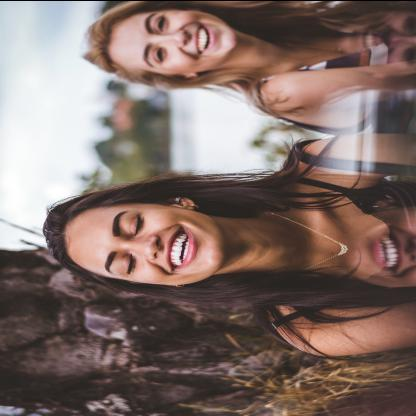Eye: (116, 250, 136, 274), (126, 212, 144, 235), (152, 14, 170, 33), (150, 46, 168, 63)
Mouth: (164, 223, 198, 271), (367, 233, 405, 275), (191, 22, 217, 56)
Nose: (130, 234, 166, 260), (158, 27, 188, 47)
